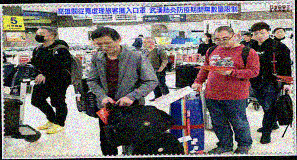with_mask: (34, 30, 50, 44), (200, 35, 208, 43)
without_mask: (95, 39, 117, 54), (214, 34, 234, 49), (252, 30, 268, 44), (141, 40, 151, 50), (275, 30, 286, 39), (243, 35, 249, 41)
